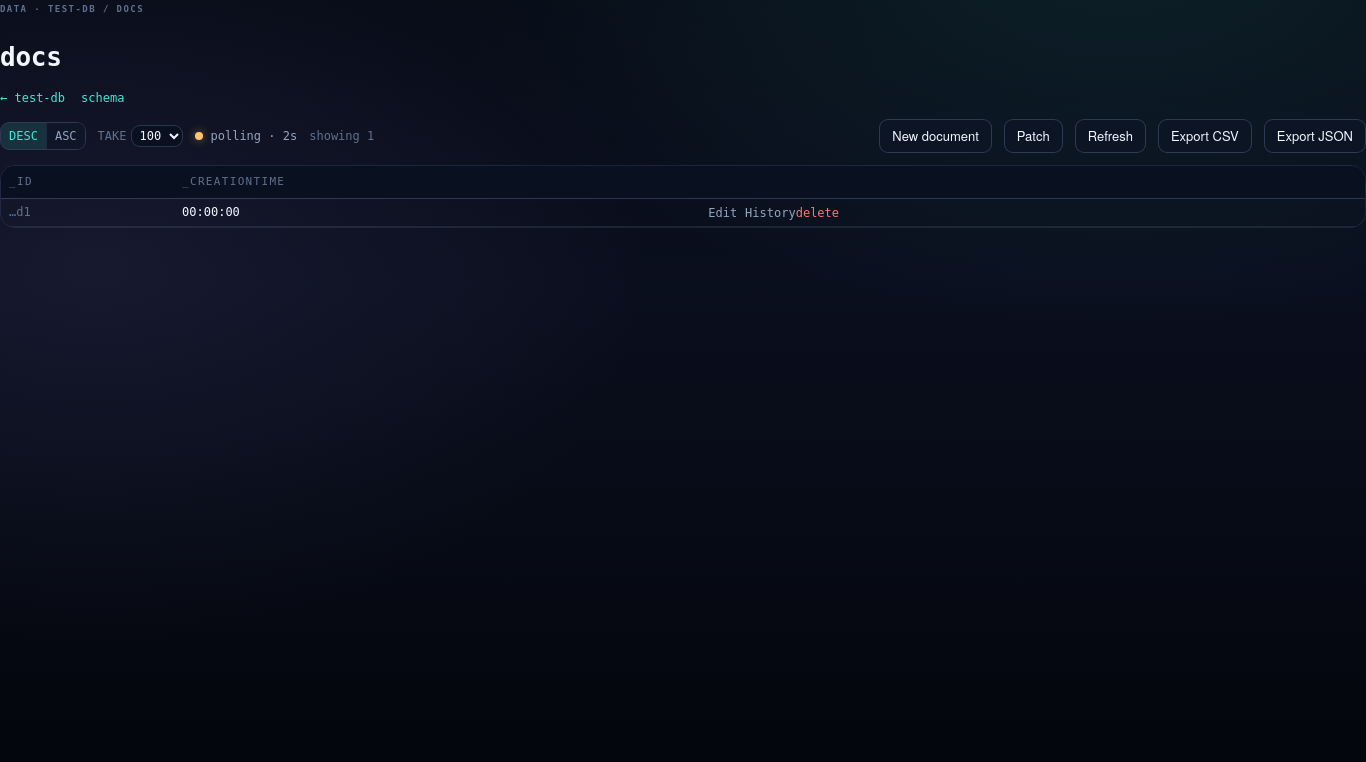
document history › lists three patch post-images in sequence order, filtering other documents
Click the button "History": (770, 213) [745,204,796,222]
(page scrolled)
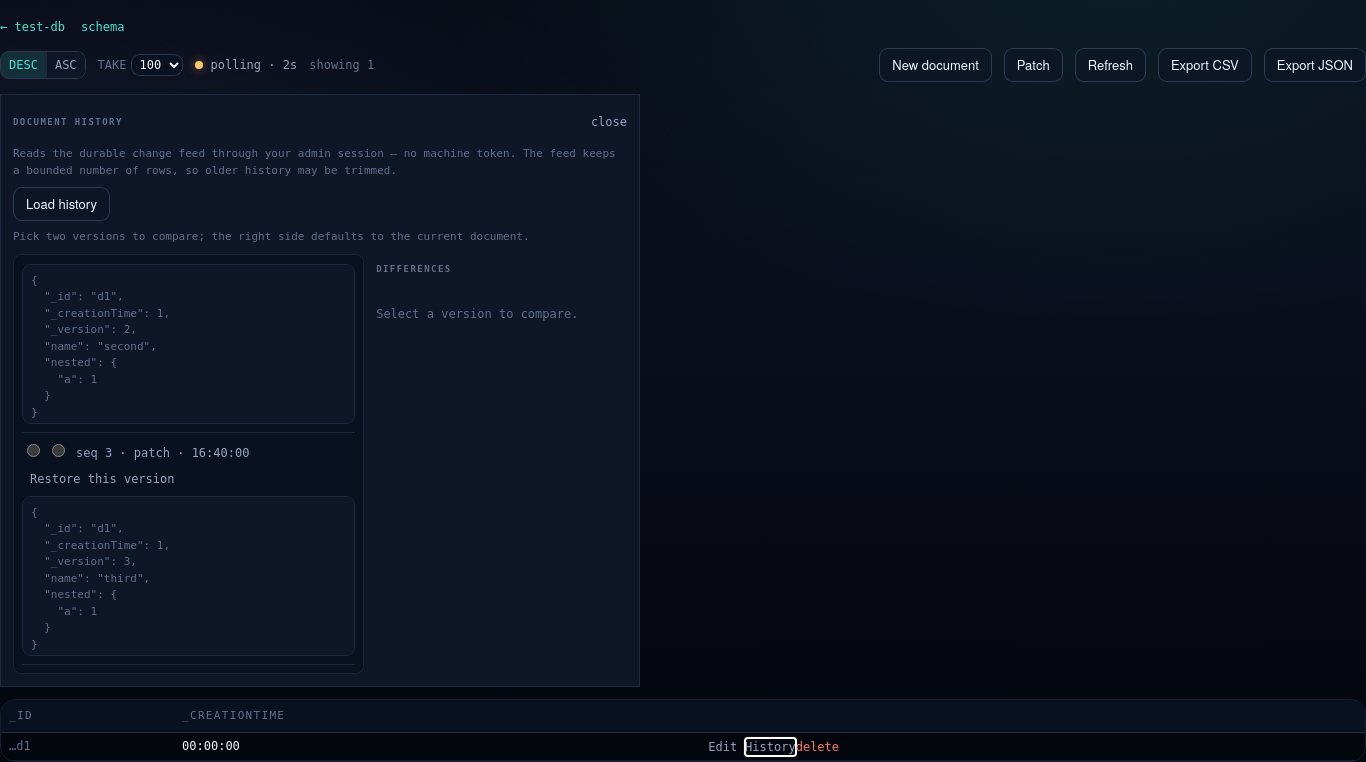
Expected: the element named "Version history" is shown, [13,254,364,674]
